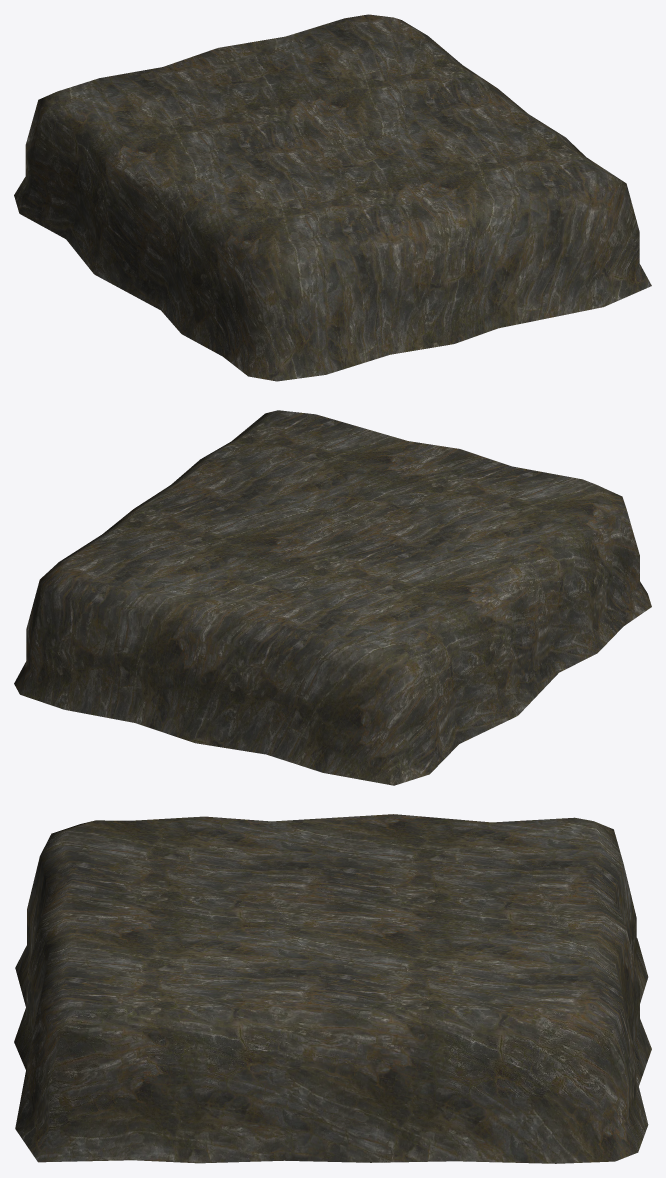
File: NAT_Cliff_Terrace_A-transformed.glb
3 views of the same model, one above another, from view 1: azimuth 30°, elevation 25°; view 2: azimuth 150°, elevation 25°; view 3: azimuth 270°, elevation 25° (orthographic). The views are drawn at different scales.
Parts seen in each view (by area): view 1: default; view 2: default; view 3: default.
Boxes of the visible parts, x1,y1,x2,y2 form: default: (14,14,651,381); default: (14,410,651,785); default: (14,814,651,1163).
Size of the model in its own units: 15.58 by 4.05 by 17.71.
Materials: 1 (1 with a texture image).
